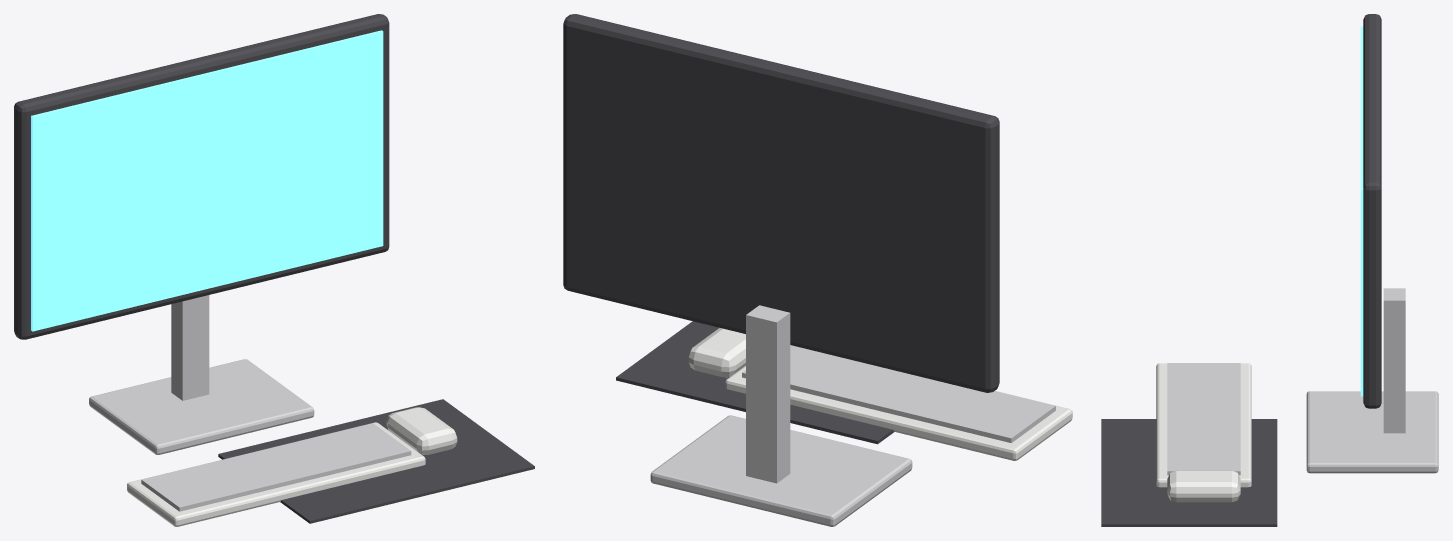
File: computer_setup.glb
3 renders of one model, left to right at view 1: azimuth 30°, elevation 25°; view 2: azimuth 150°, elevation 25°; view 3: azimuth 270°, elevation 25°, orthographic. The views are drawn at different scales.
Parts seen in each view (by area): view 1: computer_setup; view 2: computer_setup; view 3: computer_setup.
Part boxes in pixels (x1=…): computer_setup: x1=14, y1=14, x2=534, y2=526; computer_setup: x1=563, y1=14, x2=1072, y2=526; computer_setup: x1=1101, y1=14, x2=1438, y2=526.
Size of the model in its own units: 0.57 by 0.51 by 0.46.
